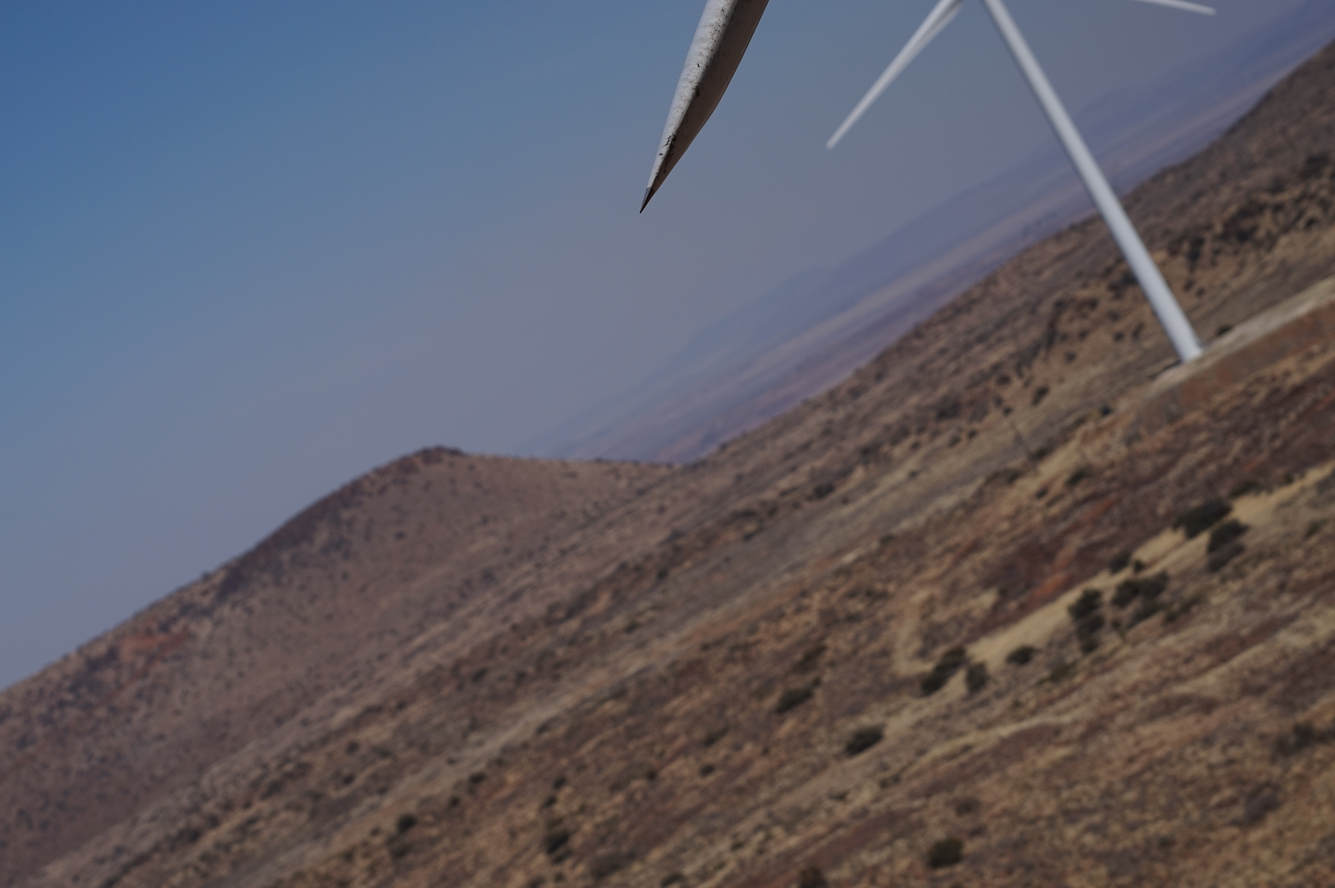Damage: (664, 133, 677, 147)
